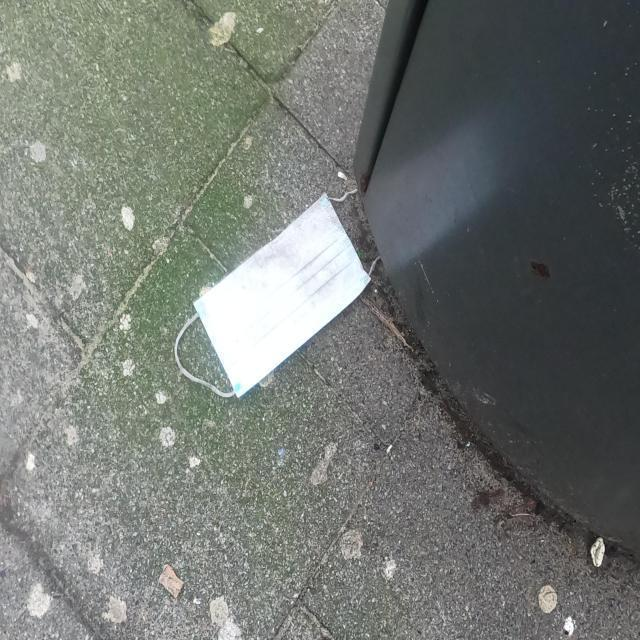Mask: (170, 184, 382, 404)
